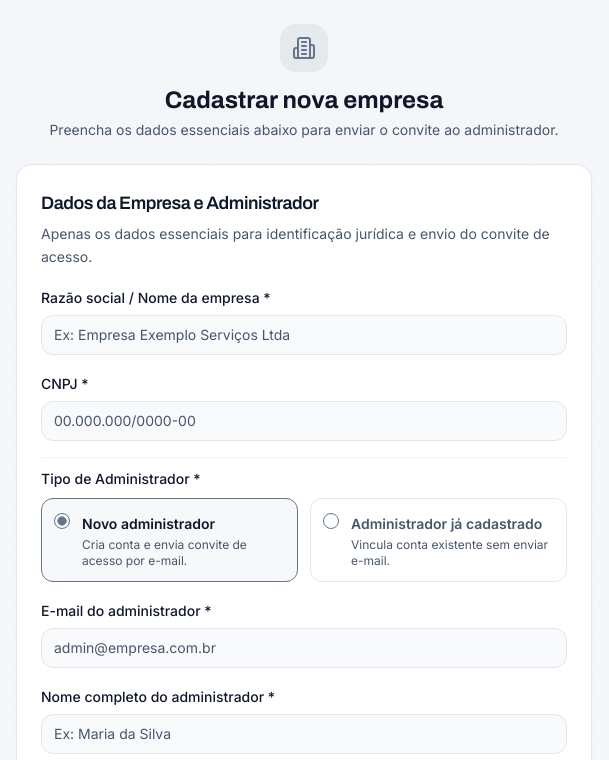
Test: CadastroEmpresa — Toggle Administrador Já Cadastrado (skip_invite) › 3. Ao selecionar 'Administrador já cadastrado' e e-mail NÃO existir: exibe erro amigável e bloqueia submit
Step 1. Click the text "Administrador já cadastrado" → (447, 523), box top-left (351, 514), bottom-right (542, 532)
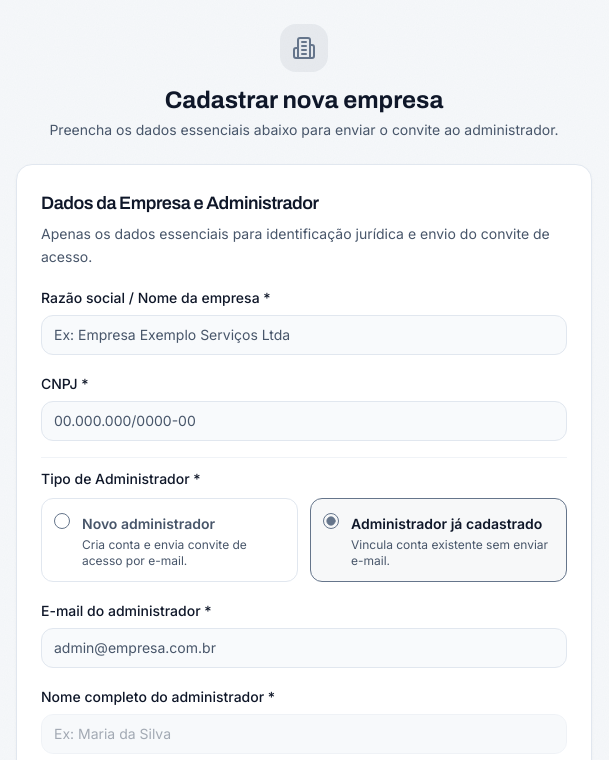
Step 2. Type "inexistente@talentgroup.com.br" into the field labelled "E-mail do administrador *" → (304, 648), box top-left (41, 628), bottom-right (567, 668)
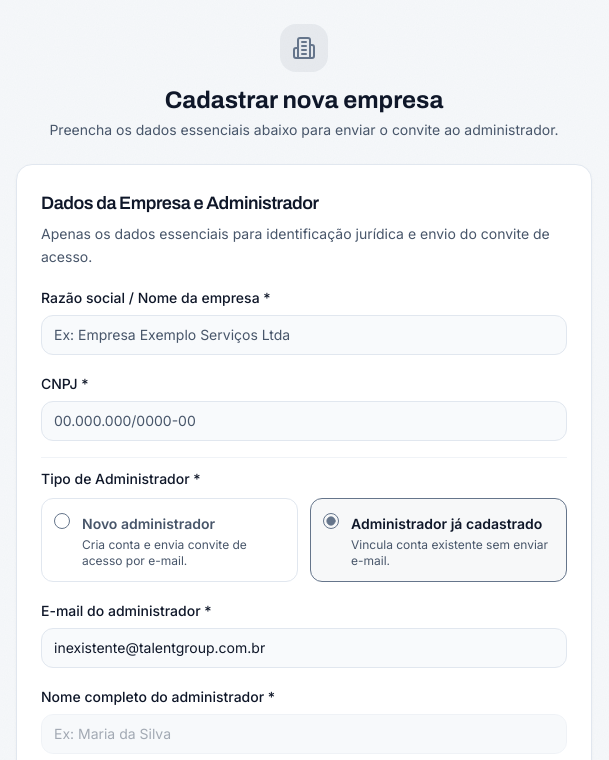
Step 3. Leave the field labelled "E-mail do administrador *", box top-left (41, 628), bottom-right (567, 668)
(page scrolled)
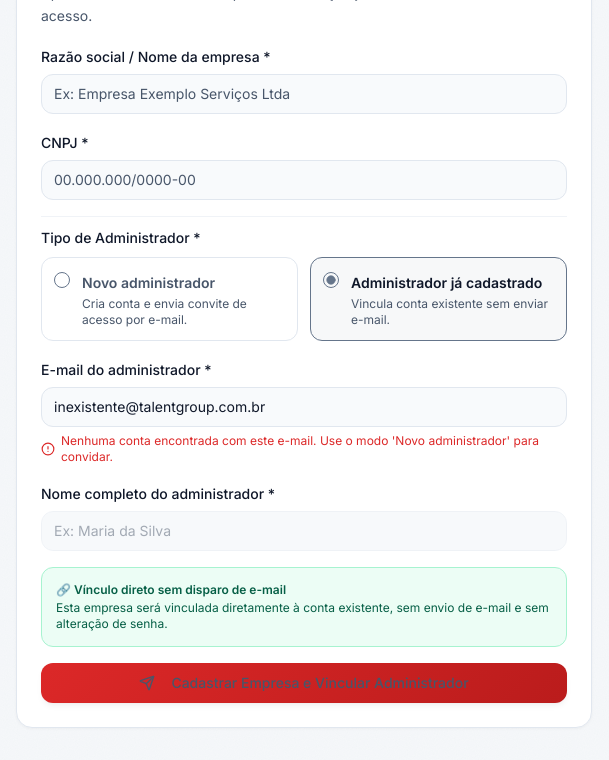
Now the button "Cadastrar Empresa e Vincular Administrador" is disabled, box top-left (41, 662), bottom-right (567, 702)
Now the text "Nenhuma conta encontrada com este e-mail. Use o modo 'Novo administrador' para convidar." is shown, box top-left (61, 432), bottom-right (539, 464)
